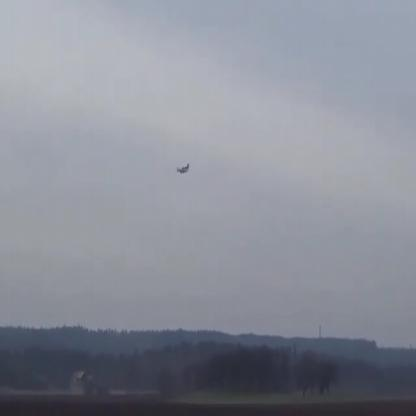CIV_Plane: (175, 164, 190, 176)
